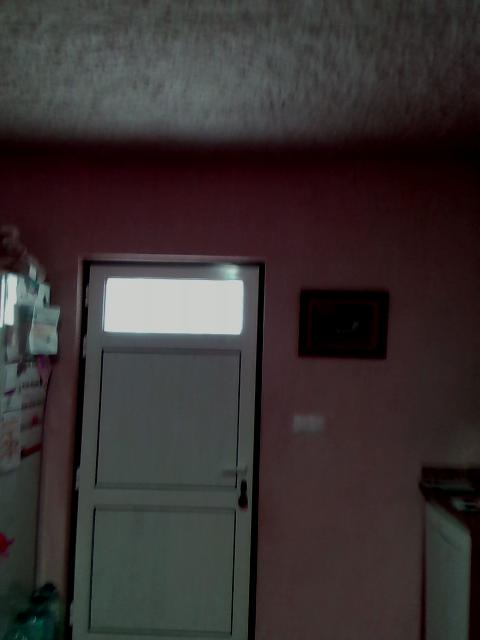closed_door: (63, 255, 261, 639)
